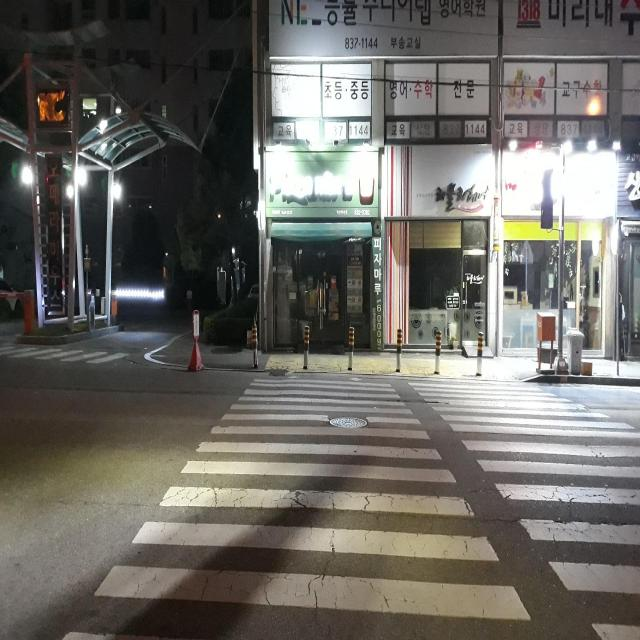횡단보도: (61, 374, 640, 640), (0, 339, 131, 366)
